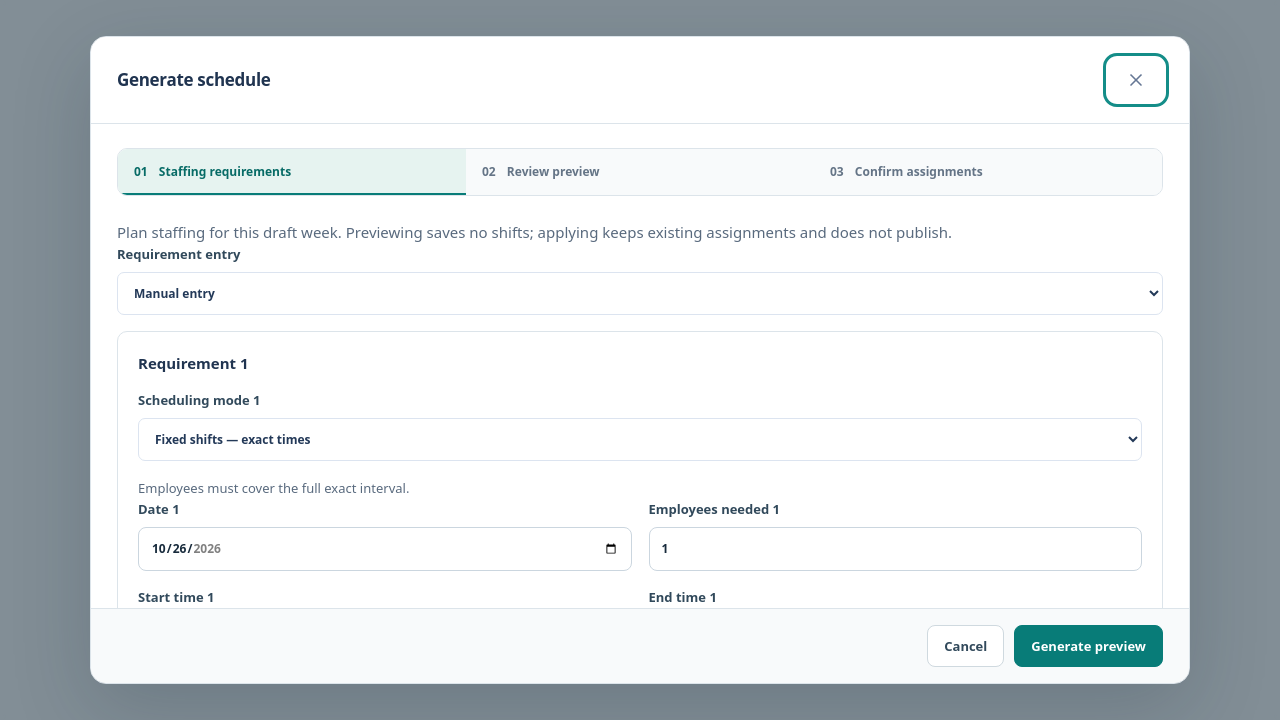
Test: switches to flexible windows, explains distinct staffing and submits duration options
Select "Flexible shifts — staffing window" in the dropdown labelled "Scheduling mode 1" at (640, 440), box x1=138 y1=418 x2=1142 y2=461
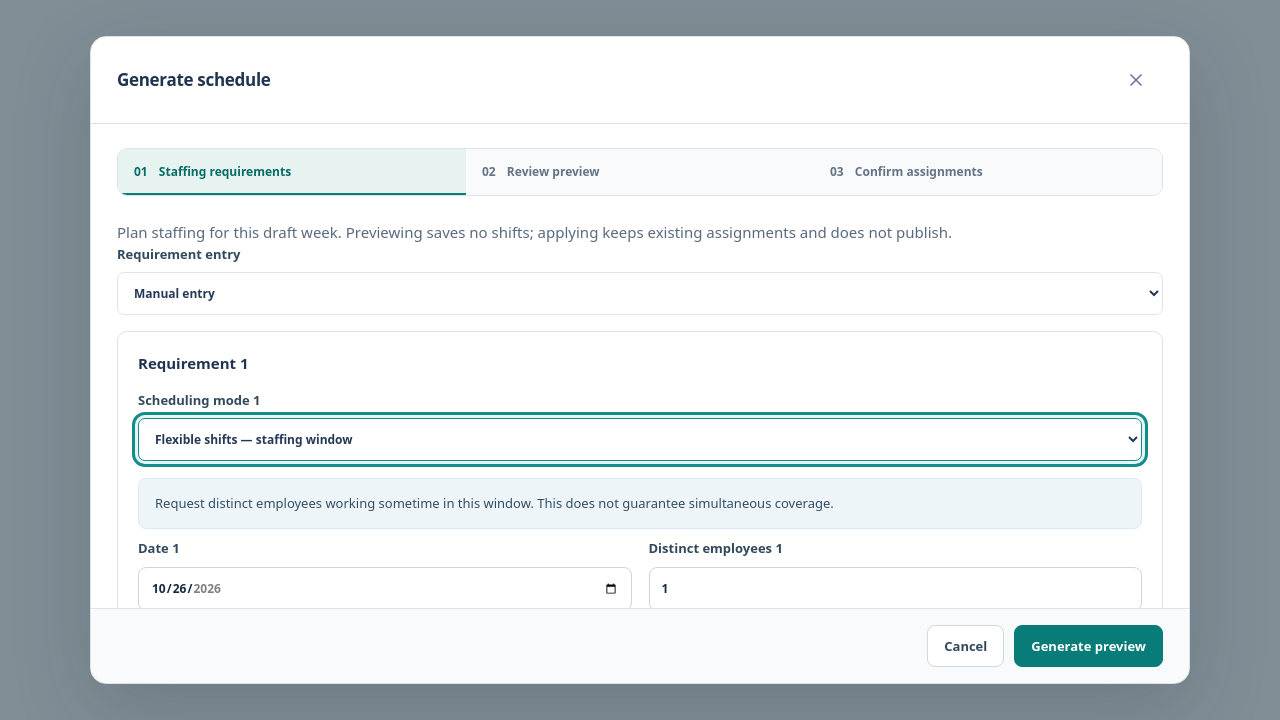
Expected: the time field labelled "Window start 1" is shown, x1=138 y1=655 x2=632 y2=684
Now the text "does not guarantee simultaneous coverage" is shown, box x1=155 y1=494 x2=834 y2=512
Replace the text in the number field labelled "Distinct employees 1" with "3" at (895, 588), box x1=648 y1=566 x2=1142 y2=610
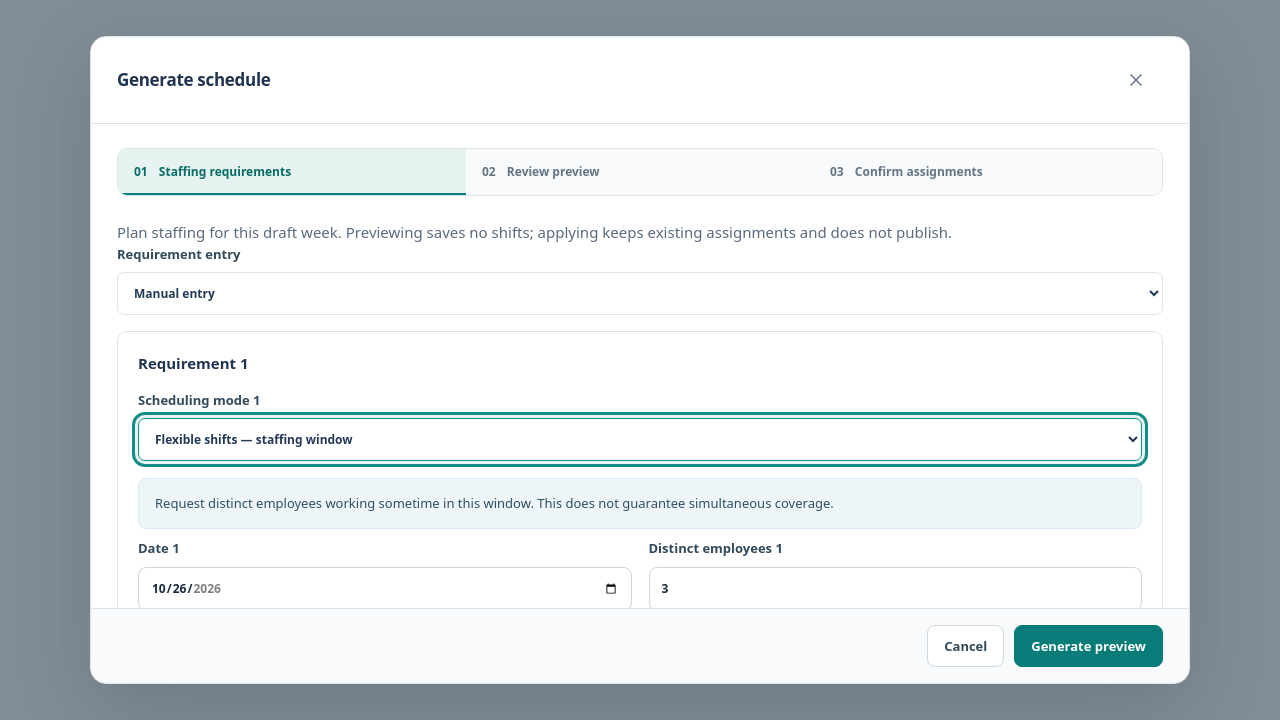
Click the button "Generate preview" at (1089, 646), box x1=1014 y1=625 x2=1163 y2=667
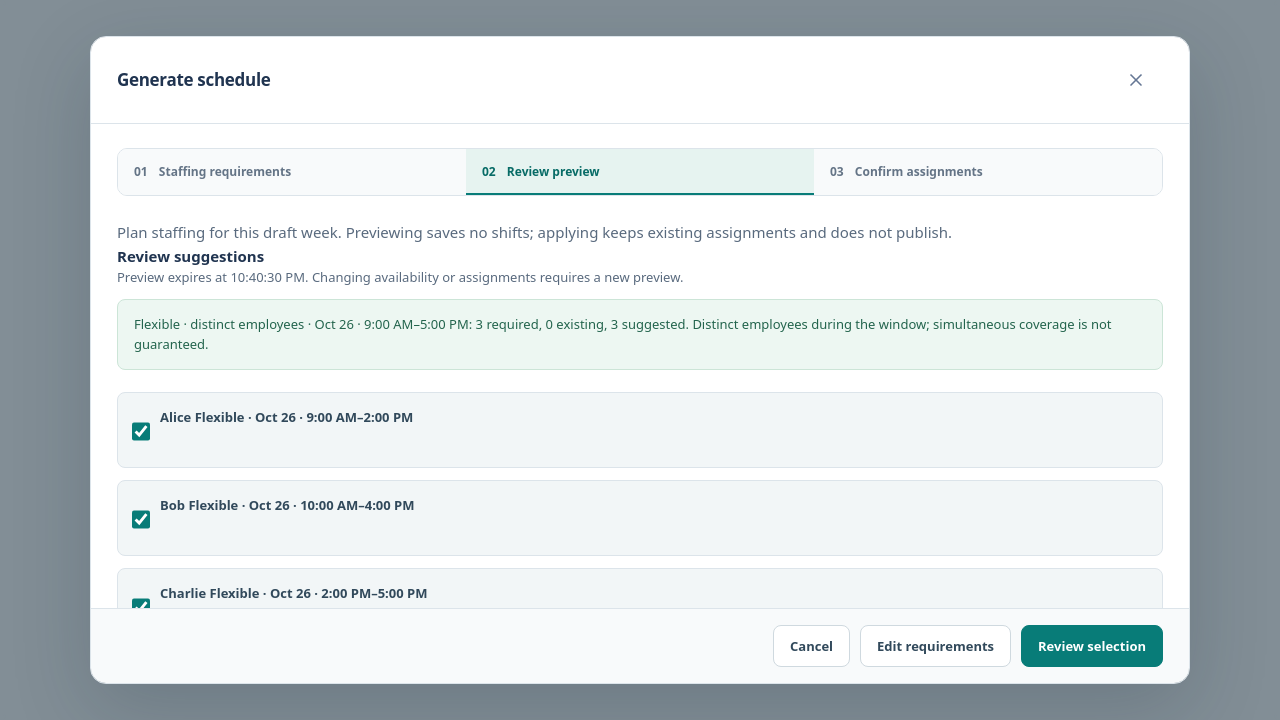
Now the heading "Review suggestions" is shown, box x1=117 y1=246 x2=264 y2=266
